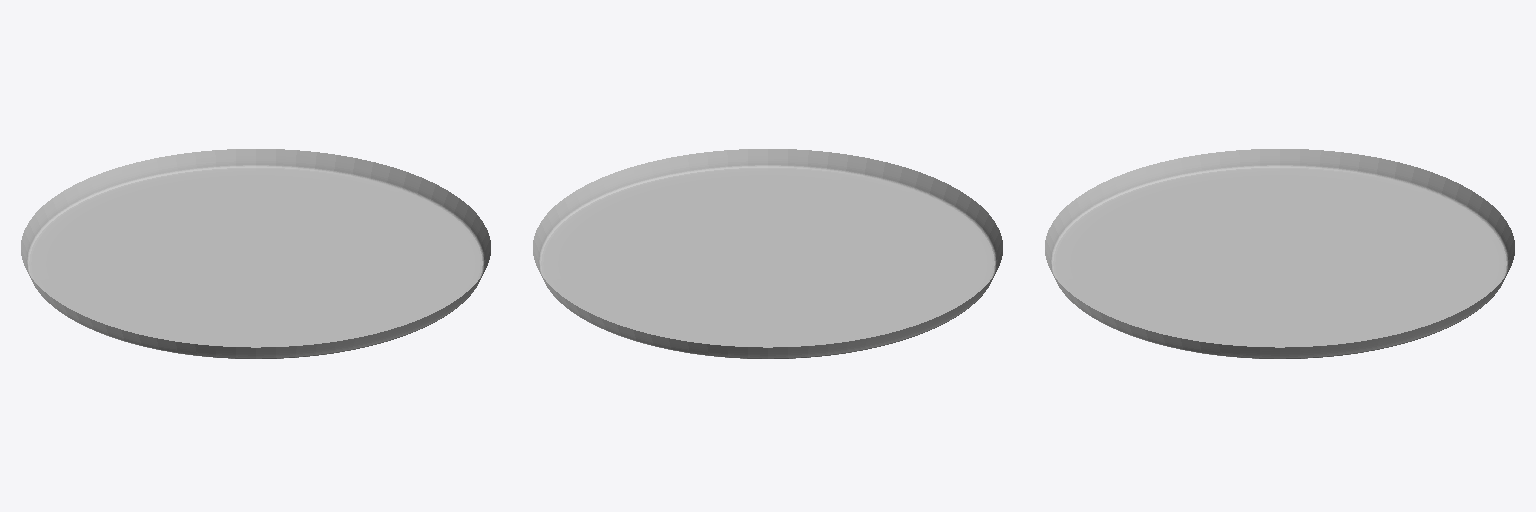
Rendered from Foco03.obj.
3 views of the same model, side by side, from view 1: azimuth 30°, elevation 25°; view 2: azimuth 150°, elevation 25°; view 3: azimuth 270°, elevation 25° (orthographic).
Parts seen in each view (by area): view 1: Cylinder003; view 2: Cylinder003; view 3: Cylinder003.
Part boxes in pixels (bbox=[...]): Cylinder003: bbox=[21, 149, 490, 358]; Cylinder003: bbox=[533, 149, 1002, 358]; Cylinder003: bbox=[1045, 149, 1514, 358].
Size of the model in its own units: 1.79 by 0.066 by 1.79.